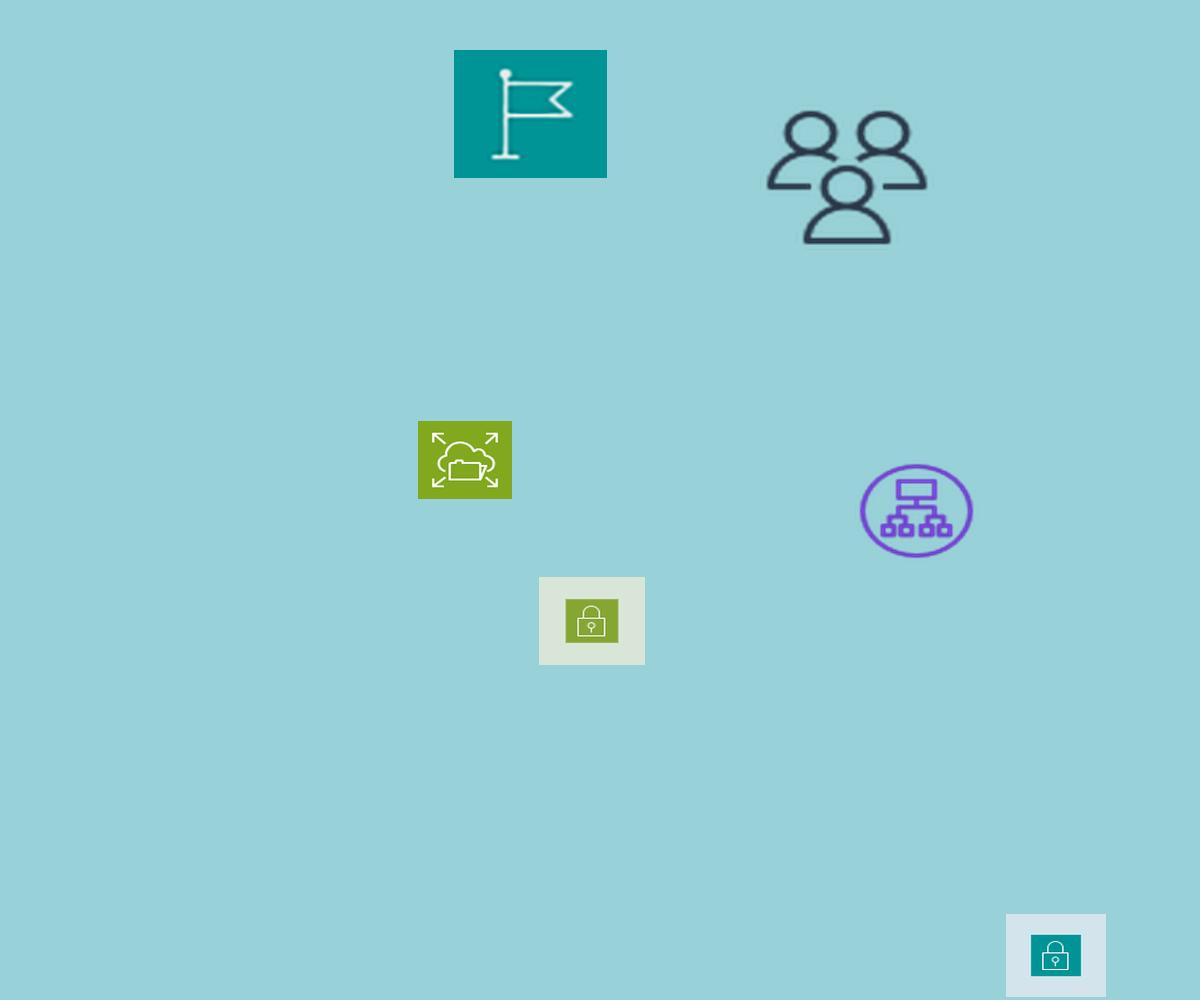AWS-EFS: (418, 421, 512, 499)
AWS-Private-subnet: (1006, 914, 1106, 997)
AWS-Public-subnet: (539, 577, 645, 665)
AWS-Region: (454, 50, 607, 178)
AWS-Res_Elastic-Load-Balancing_Application-Load-Balancer: (855, 460, 978, 562)
AWS-Res_Users: (760, 105, 934, 250)
